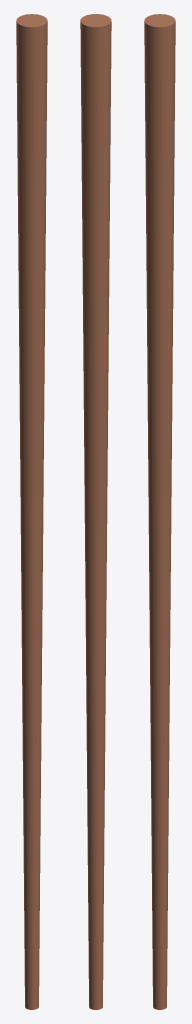
The model's file is Chopstick.fbx.
3 renders of one model, left to right at view 1: azimuth 90°, elevation 25°; view 2: azimuth 150°, elevation 25°; view 3: azimuth 270°, elevation 25°, orthographic.
Visible parts, largest first — view 1: ChopStick; view 2: ChopStick; view 3: ChopStick.
Part boxes in pixels (x1=…): ChopStick: x1=16, y1=14, x2=47, y2=1009; ChopStick: x1=80, y1=14, x2=111, y2=1009; ChopStick: x1=144, y1=14, x2=175, y2=1009.
Size of the model in its own units: 0.694 by 24.03 by 0.694.
